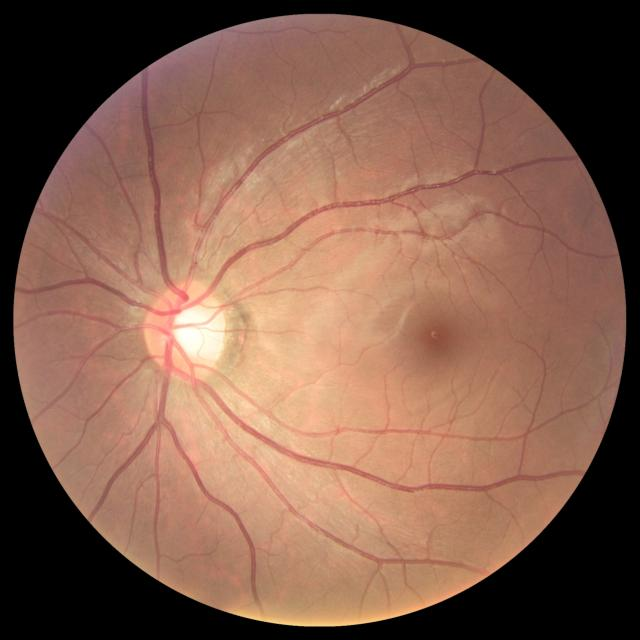OC: (167, 302, 214, 361)
OD: (145, 281, 228, 379)
